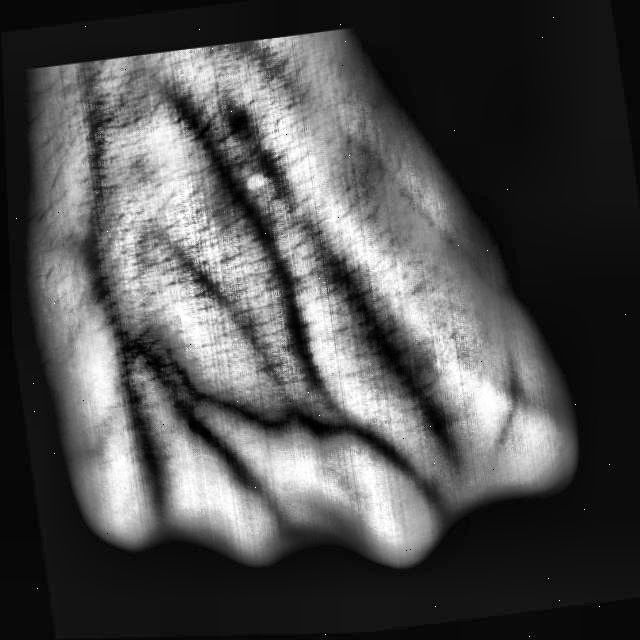Vein: (164, 86, 296, 283), (284, 194, 408, 367)
